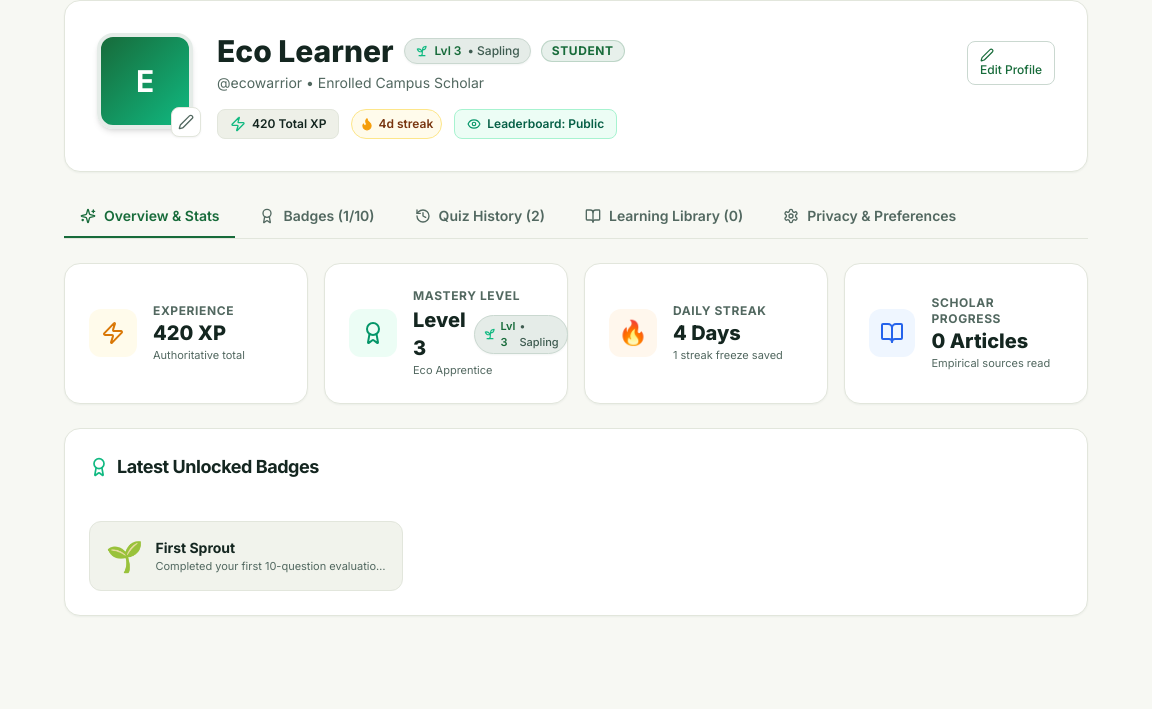
Stage 10: Content Library, Student Profiles & Administration › Student Profiles & Field Ownership › allows toggling leaderboard visibility preference in settings tab
This screenshot has width=1152, height=709.
Note: Switch to Privacy & Preferences tab
What coordinates should you click on to do the following:
click the button "Privacy & Preferences"
I would click on:
 (870, 217)
Its box is [767,196,972,238].
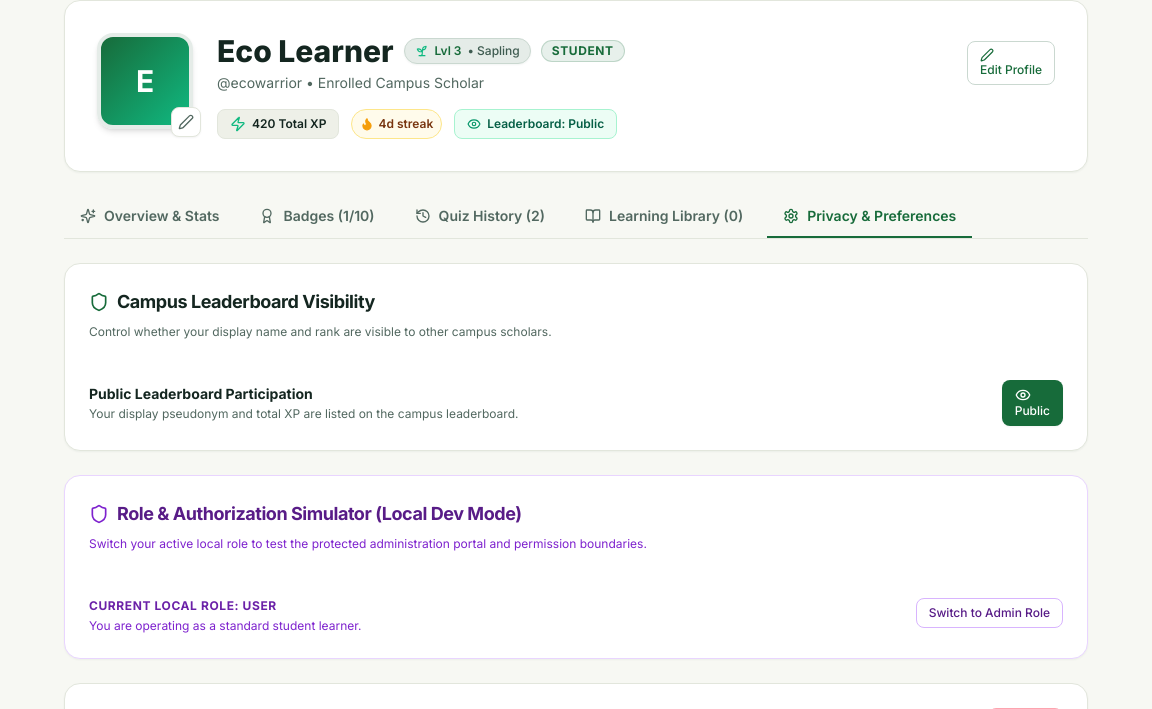
Expected: the heading "Public Leaderboard Participation" is shown, [89,385,313,402]
Note: Click toggle button
What coordinates should you click on to do the following:
click the button "Public"
I would click on:
 (1032, 403)
Its box is [1002,380,1063,426].
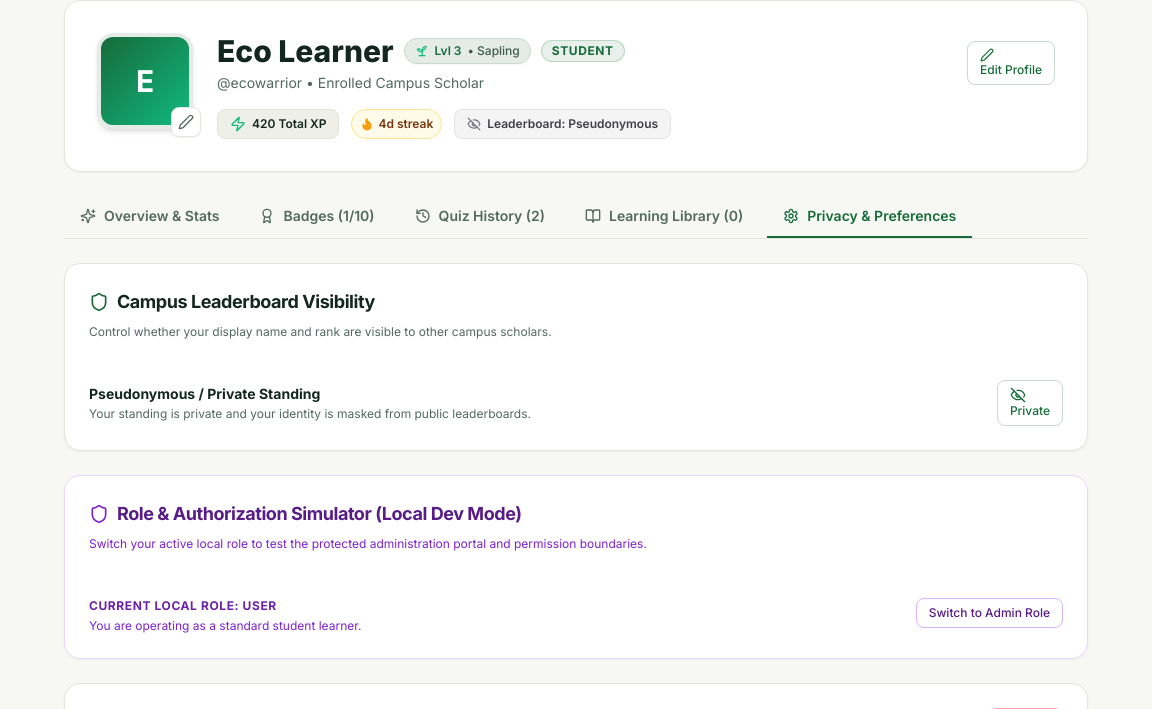
Expected: the heading "Pseudonymous / Private Standing" is shown, [89,385,320,402]
